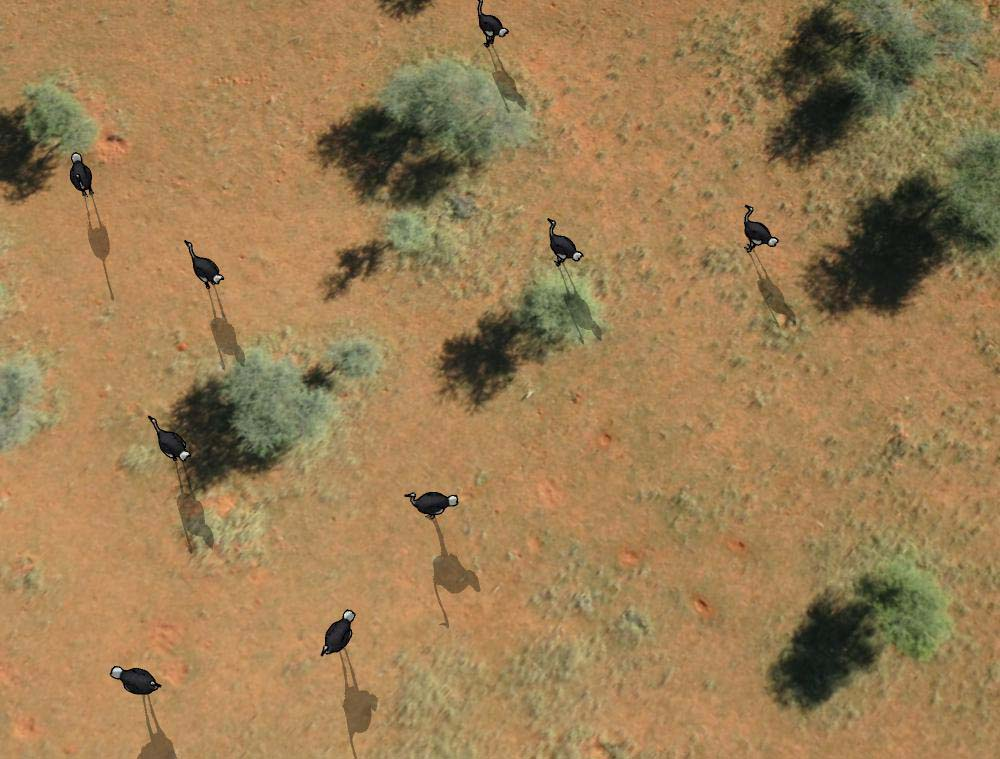springbok: (147, 409, 194, 473), (737, 200, 783, 259), (108, 654, 164, 698), (314, 607, 359, 660), (543, 212, 585, 268), (183, 235, 225, 290), (404, 485, 460, 521), (65, 148, 104, 196), (476, 1, 507, 56)
